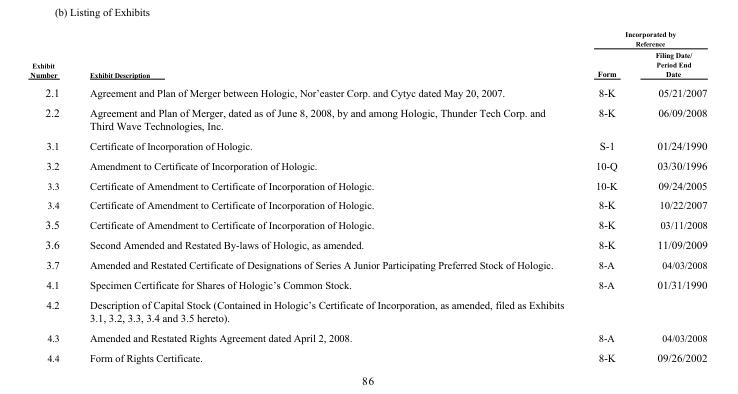table: (29, 29, 706, 363)
table column: (73, 29, 579, 363), (635, 29, 706, 363), (579, 29, 635, 363), (29, 29, 73, 363)
table column header: (29, 29, 706, 81)
table row: (29, 101, 706, 135), (29, 48, 706, 81), (29, 294, 706, 327), (29, 81, 706, 101), (29, 154, 706, 174), (29, 174, 706, 194), (29, 194, 706, 214), (29, 214, 706, 234), (29, 234, 706, 254), (29, 254, 706, 274), (29, 274, 706, 294), (29, 327, 706, 347), (29, 29, 706, 48), (29, 135, 706, 154), (29, 347, 706, 363)
table spanning cell: (73, 29, 579, 81), (579, 29, 706, 48), (29, 29, 73, 81)
